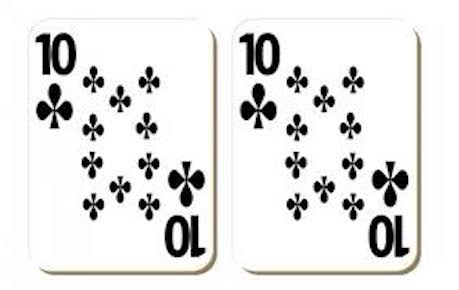Copy of TenOfClubs: (233, 16, 426, 283)
TenOfClubs: (26, 15, 219, 281)
